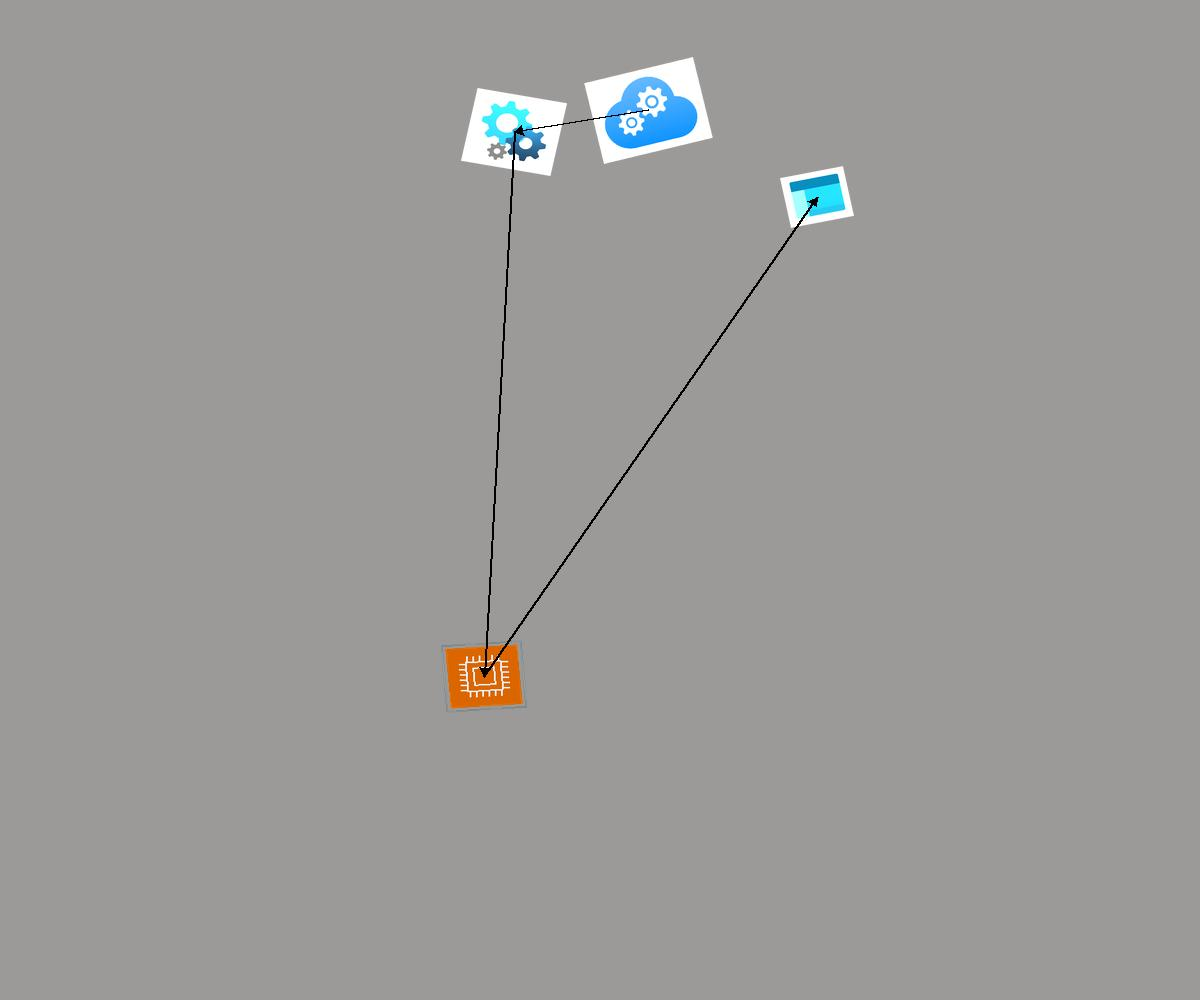AWS-Category_Compute: (440, 640, 528, 713)
Azure_api: (461, 88, 567, 176)
Azure_cloud_services: (584, 57, 713, 164)
Azure_management-portal: (780, 166, 854, 228)
